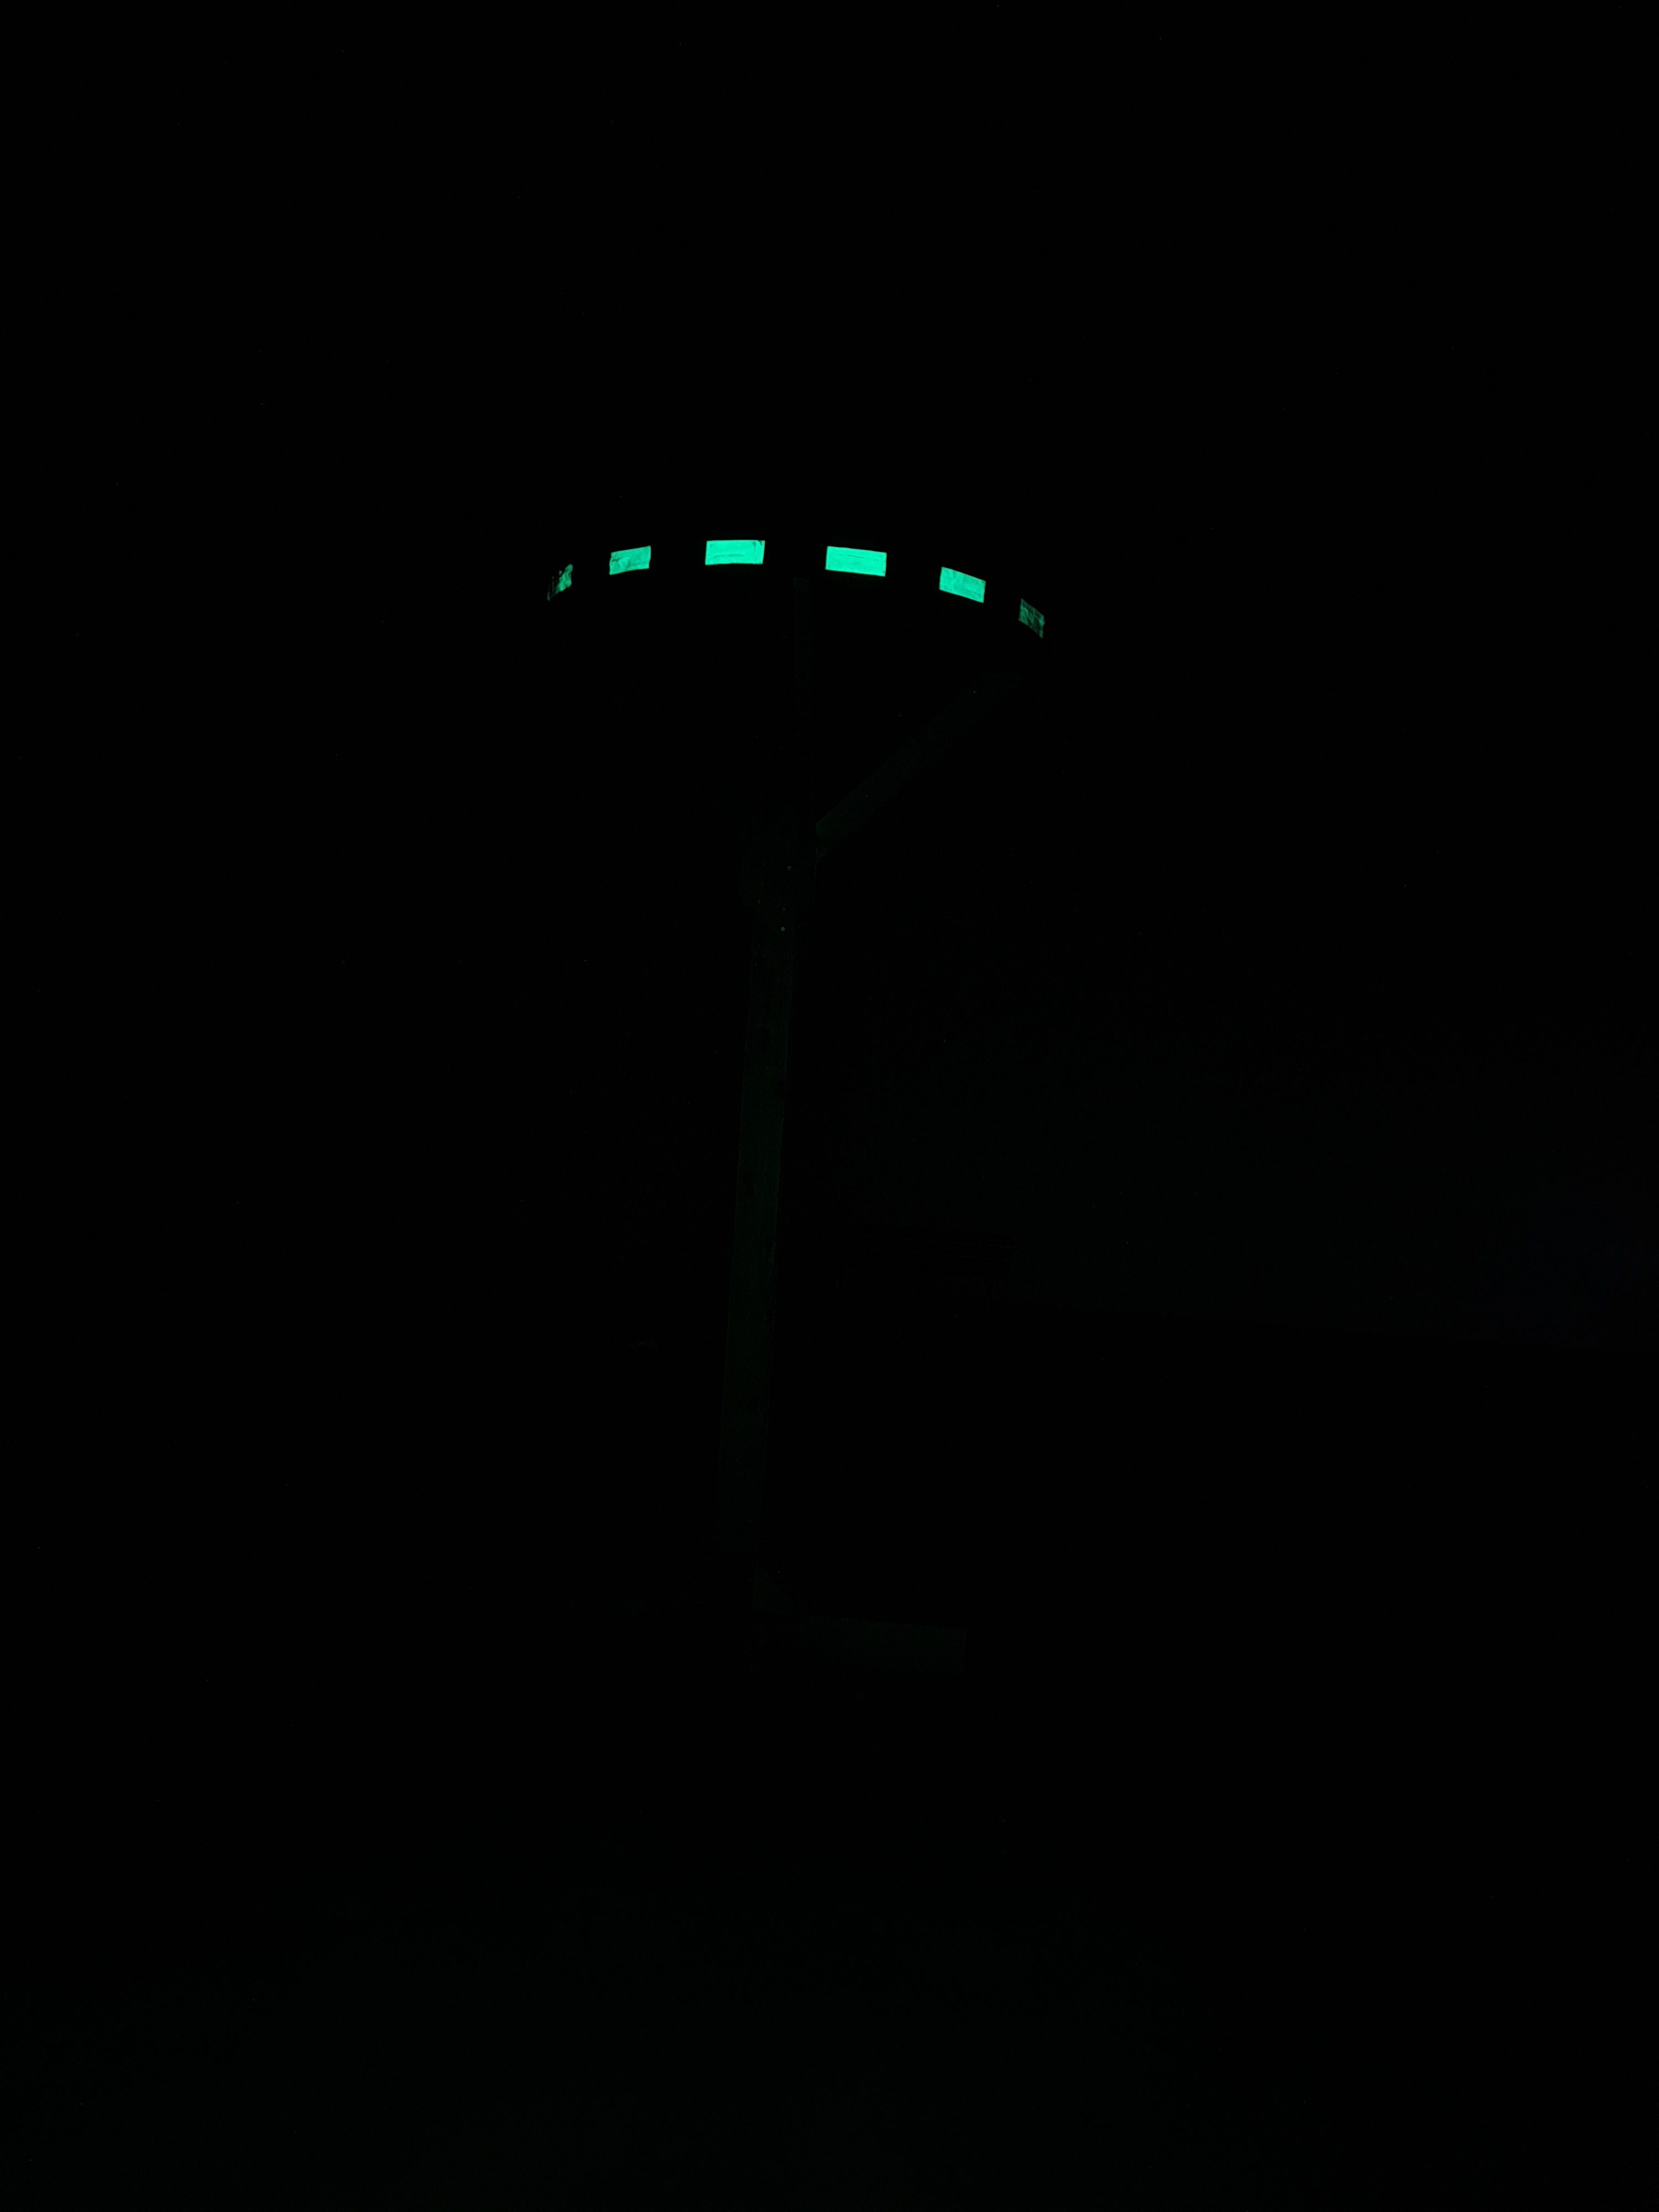hoop: (540, 531, 1051, 648)
